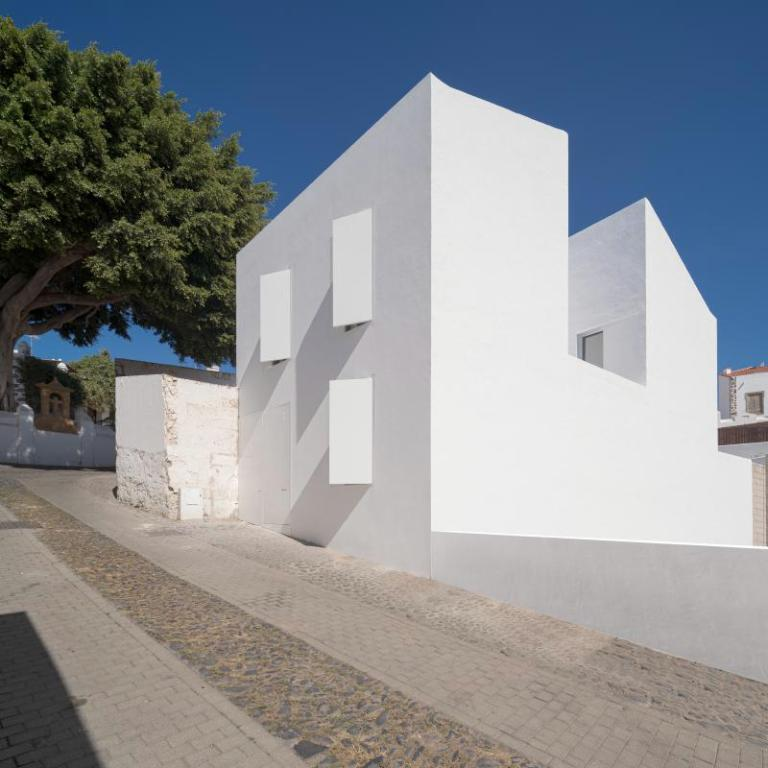white-walls: (385, 131, 550, 587)
